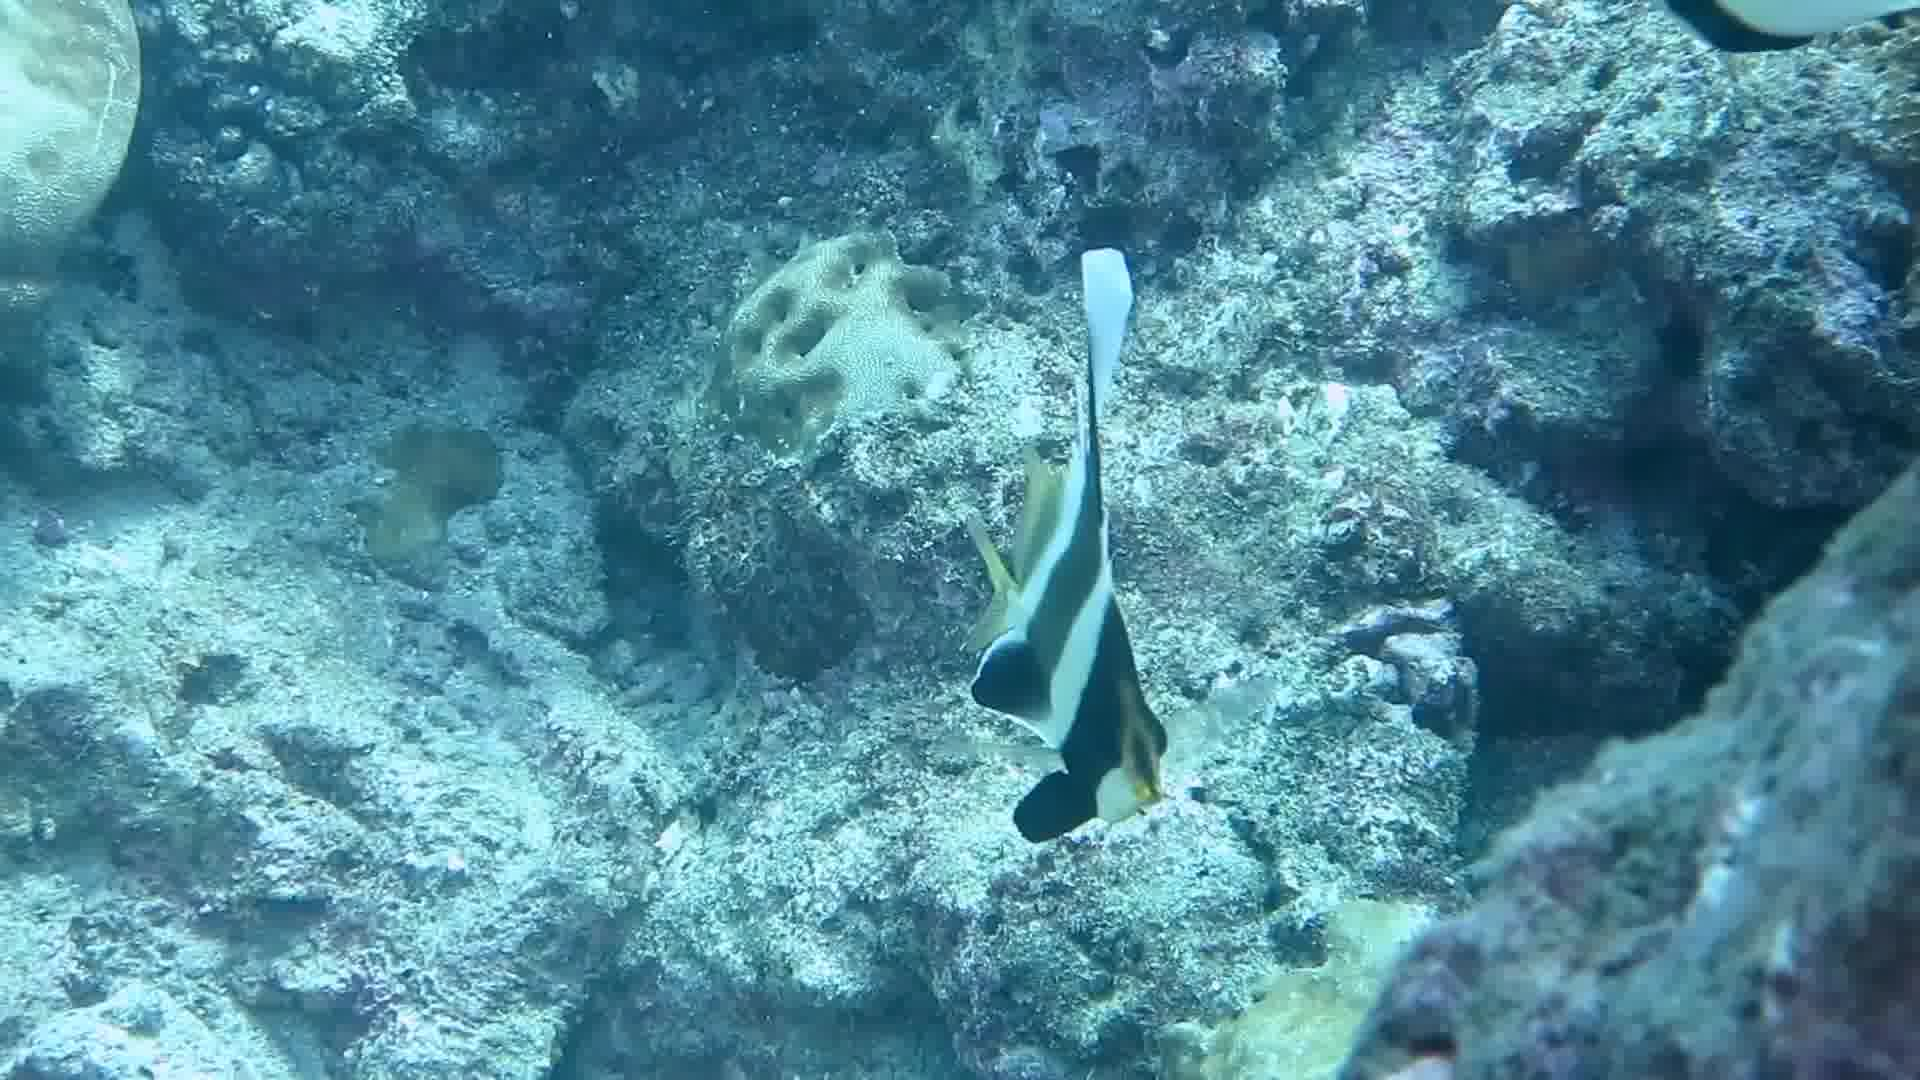Heniochus chrysostomus: (786, 252, 1315, 857)
